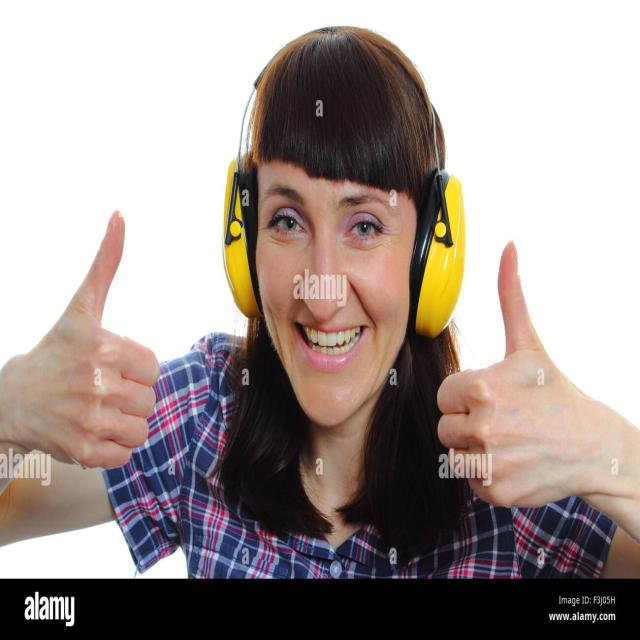Ear Muffs: (222, 18, 471, 340)
